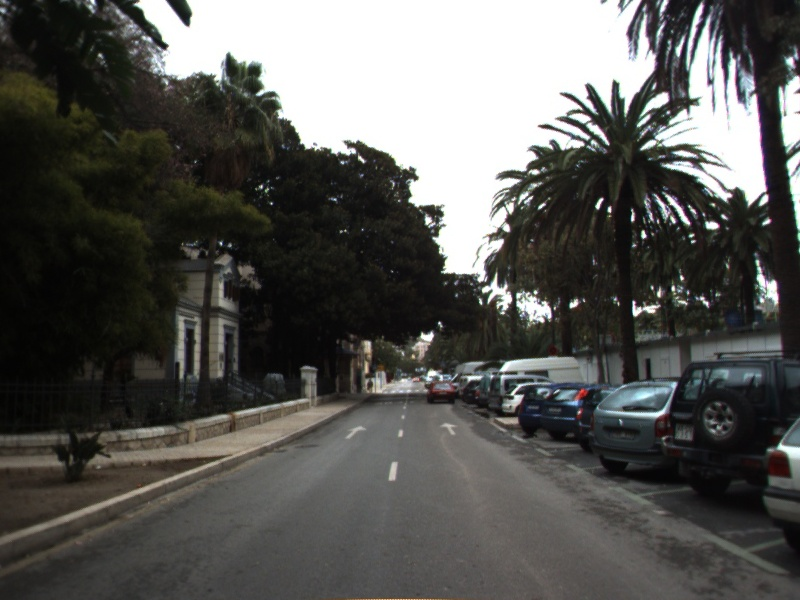STRAIGHT: (342, 423, 369, 441), (438, 420, 461, 437)
